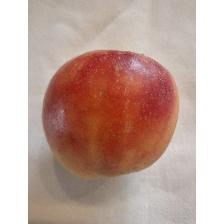Apfel: (40, 47, 180, 181)
